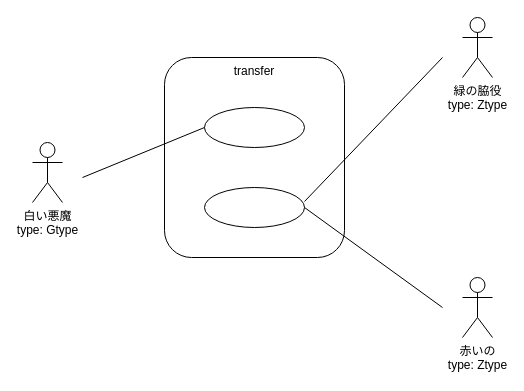
This 524x391 diagram has some shape labels left out. The centre of each missing label's shape, as x and y in pixels:
"transferGtype" belongs at pixel 254 127.
"transferZtype" belongs at pixel 254 207.
